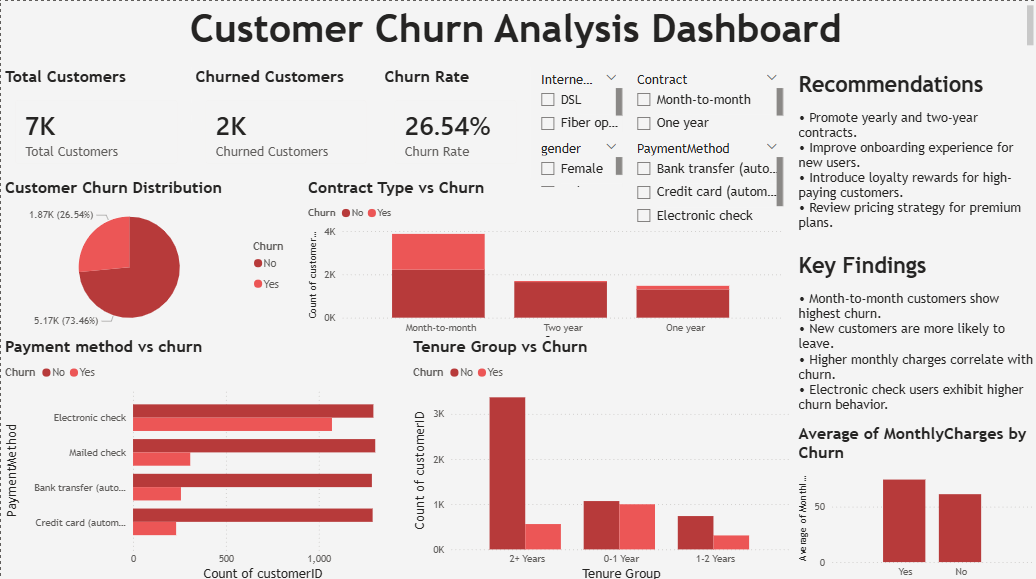

The dashboard page shown, as its layout file describes it:
{"tool":"powerbi","page":{"name":"Page 1","canvas":[1280,720],"ordinal":0},"visuals":[{"type":"cardVisual","title":"Total Customers","fields":{"Data":["telecom_churn.Total Customers"]},"box":[0,81.5,235.2,137],"z":0},{"type":"cardVisual","title":"Churned Customers","fields":{"Data":["telecom_churn.Churned Customers"]},"box":[235.2,81.5,233.3,137],"z":1000},{"type":"cardVisual","title":"Churn Rate","fields":{"Data":["telecom_churn.Churn Rate"]},"box":[468.5,81.5,185.2,137],"z":2000},{"type":"pieChart","title":"Customer Churn Distribution","fields":{"Category":["telecom_churn.Churn"],"Y":["CountNonNull(telecom_churn.customerID)"]},"box":[0,218.5,374.1,196.3],"z":2001},{"type":"columnChart","title":"Contract Type vs Churn","fields":{"Category":["telecom_churn.Contract"],"Y":["CountNonNull(telecom_churn.customerID)"],"Series":["telecom_churn.Churn"]},"box":[374.1,218.5,596.3,211.1],"z":2002},{"type":"clusteredColumnChart","title":"Tenure Group vs Churn","fields":{"Category":["telecom_churn.Tenure Group"],"Y":["CountNonNull(telecom_churn.customerID)"],"Series":["telecom_churn.Churn"]},"box":[503.7,414.8,475.9,305.6],"z":2003},{"type":"slicer","title":"Average Monthly Charges by Churn","fields":{"Values":["telecom_churn.Contract"]},"box":[772.2,81.5,198.1,85.2],"z":2004},{"type":"clusteredBarChart","title":"Payment method vs churn","fields":{"Category":["telecom_churn.PaymentMethod"],"Y":["CountNonNull(telecom_churn.customerID)"],"Series":["telecom_churn.Churn"]},"box":[0,414.8,503.7,305.6],"z":2005},{"type":"slicer","fields":{"Values":["telecom_churn.gender"]},"box":[653.7,166.7,118.5,66.7],"z":2006},{"type":"slicer","fields":{"Values":["telecom_churn.InternetService"]},"box":[653.7,81.5,118.5,85.2],"z":2007},{"type":"slicer","fields":{"Values":["telecom_churn.PaymentMethod"]},"box":[772.2,166.7,198.1,114.8],"z":2008},{"type":"clusteredColumnChart","fields":{"Category":["telecom_churn.Churn"],"Y":["Avg(telecom_churn.MonthlyCharges)"]},"box":[979.6,522.2,300,198.1],"z":2009},{"type":"textbox","box":[0,0,1279.6,63],"z":2010},{"type":"textbox","box":[979.6,305.6,300,216.7],"z":2011},{"type":"textbox","box":[979.6,81.5,300,216.7],"z":2012}]}

Visuals, with their boxes in screenshot pixels (x1, y1, x2, y2), scaled from the page's 1280x720 canvas onto the 1036x579 screenshot:
"Total Customers" cardVisual: region(0, 66, 190, 176)
"Churned Customers" cardVisual: region(190, 66, 379, 176)
"Churn Rate" cardVisual: region(379, 66, 529, 176)
"Customer Churn Distribution" pieChart: region(0, 176, 303, 334)
"Contract Type vs Churn" columnChart: region(303, 176, 785, 345)
"Tenure Group vs Churn" clusteredColumnChart: region(408, 334, 793, 578)
"Average Monthly Charges by Churn" slicer: region(625, 66, 785, 134)
"Payment method vs churn" clusteredBarChart: region(0, 334, 408, 578)
slicer - telecom_churn.gender: region(529, 134, 625, 188)
slicer - telecom_churn.InternetService: region(529, 66, 625, 134)
slicer - telecom_churn.PaymentMethod: region(625, 134, 785, 226)
clusteredColumnChart - telecom_churn.Churn x Avg(telecom_churn.MonthlyCharges): region(793, 420, 1035, 578)
textbox: region(0, 0, 1035, 51)
textbox: region(793, 246, 1035, 420)
textbox: region(793, 66, 1035, 240)
